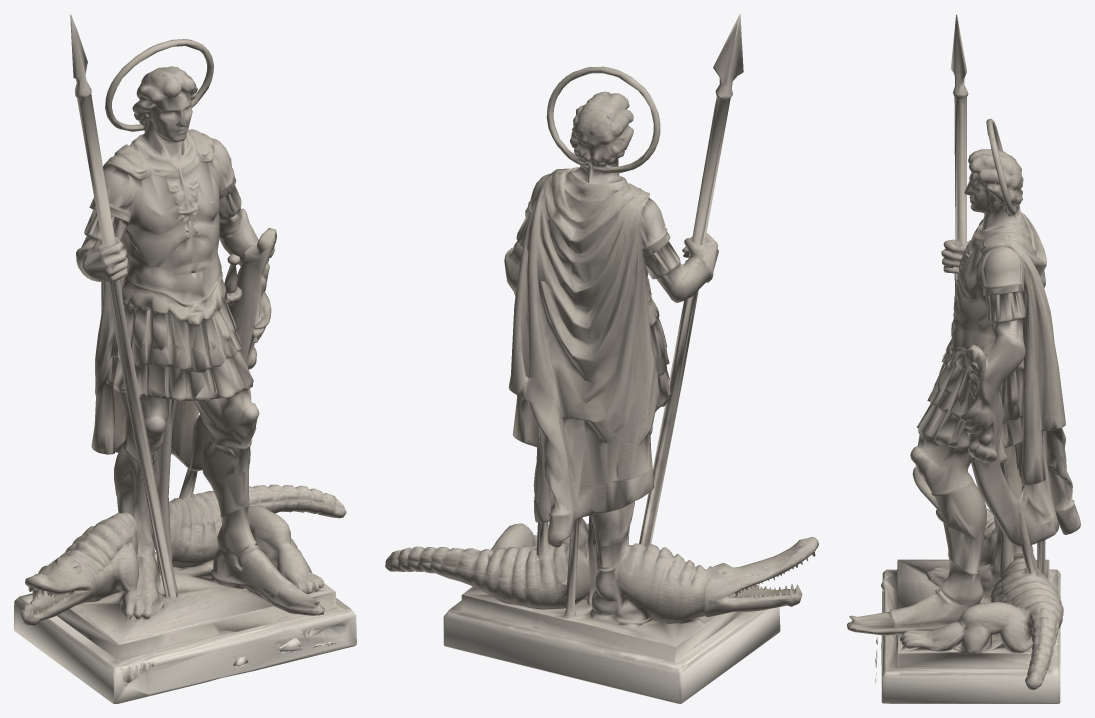
Rendered from venice_theodore-UpfWhIRn.glb.
The picture shows the model from 3 angles, left to right: view 1: azimuth 30°, elevation 25°; view 2: azimuth 150°, elevation 25°; view 3: azimuth 270°, elevation 25°; orthographic projection. The views are drawn at different scales.
Visible parts, largest first — view 1: node_0; view 2: node_0; view 3: node_0.
Part boxes in pixels (x1=…): node_0: x1=14, y1=14, x2=356, y2=703; node_0: x1=385, y1=14, x2=818, y2=703; node_0: x1=847, y1=14, x2=1080, y2=703.
Bounding box in the file's own units: 0.6415 × 1.07 × 0.3888.
Materials: 1 (1 with a texture image).
